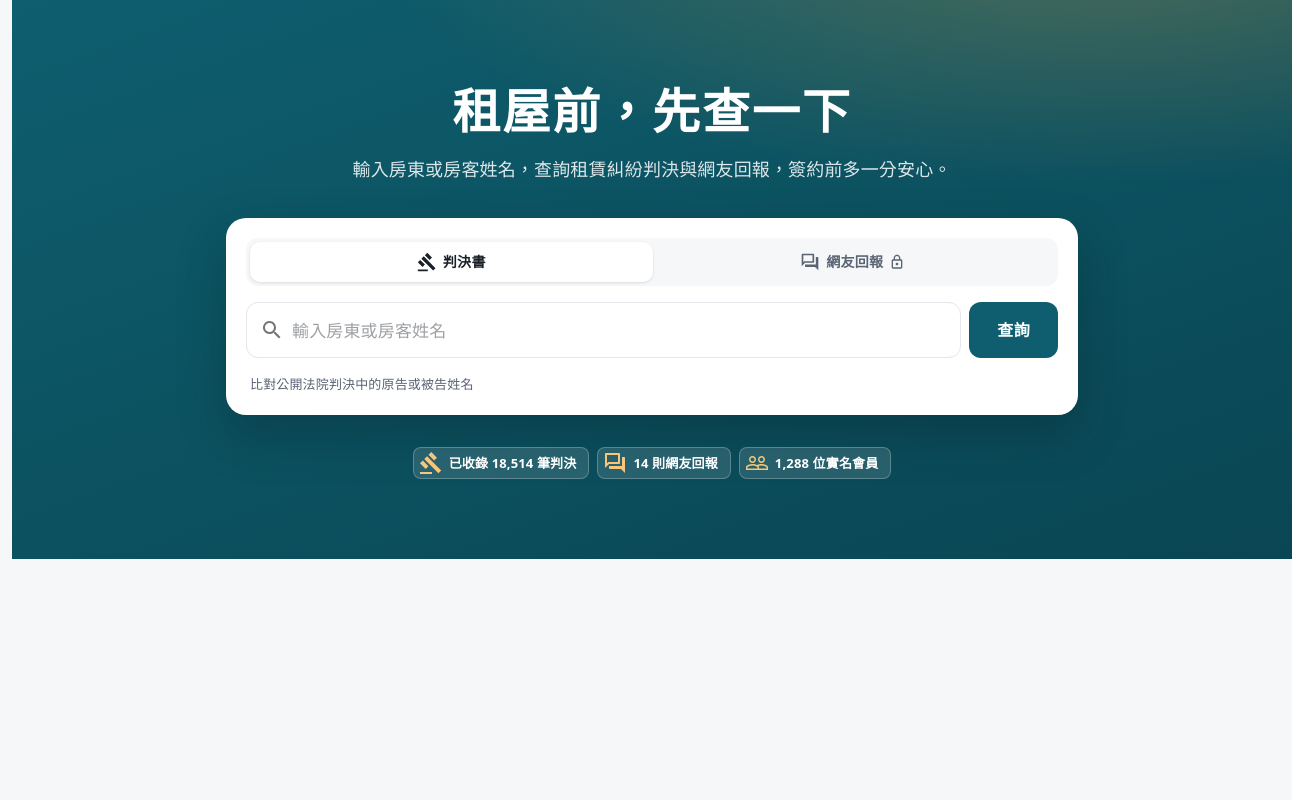
Test: SearchHero › navigates to judgment search results with the keyword
This screenshot has width=1292, height=800.
Type "王大明" into the field named "輸入姓名查詢判決" at (627, 330), box [292,302,961,359]
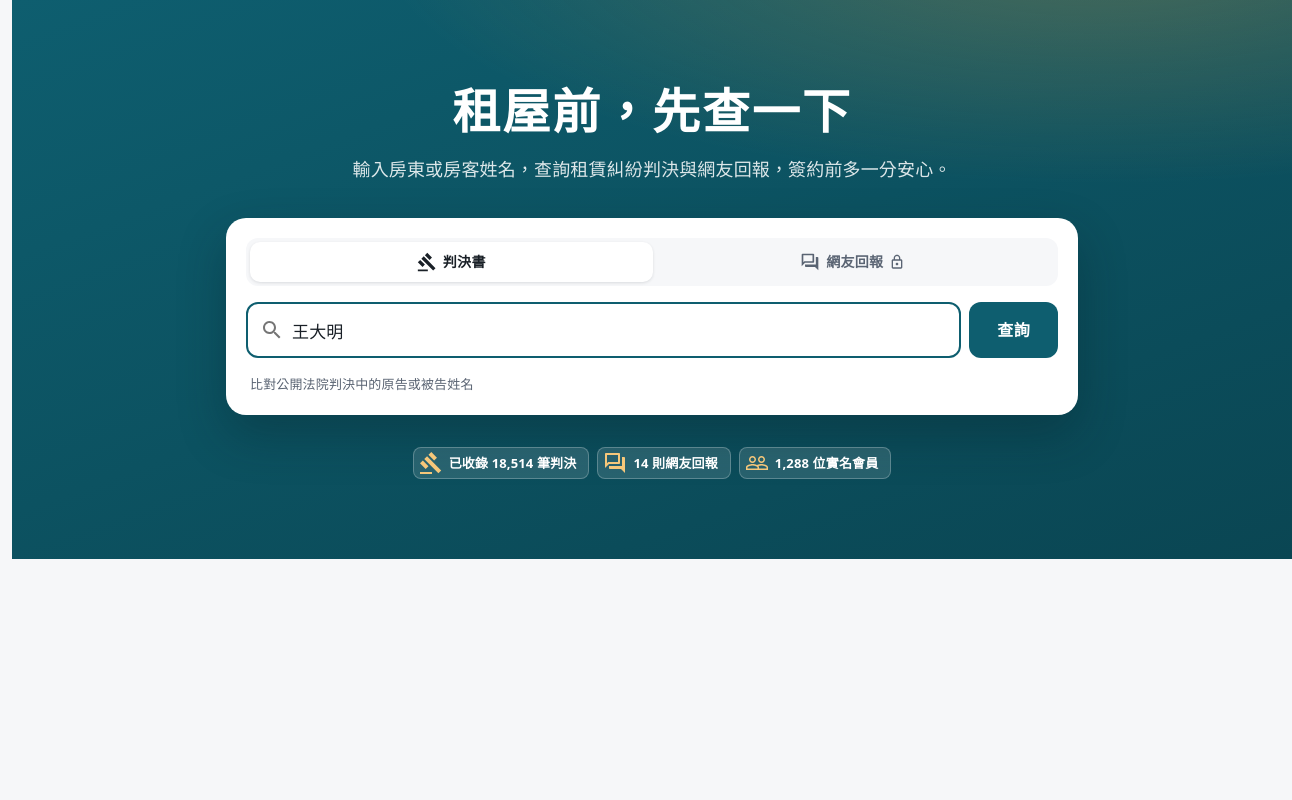
Click the button "查詢" at (1014, 330), box [969,302,1058,358]
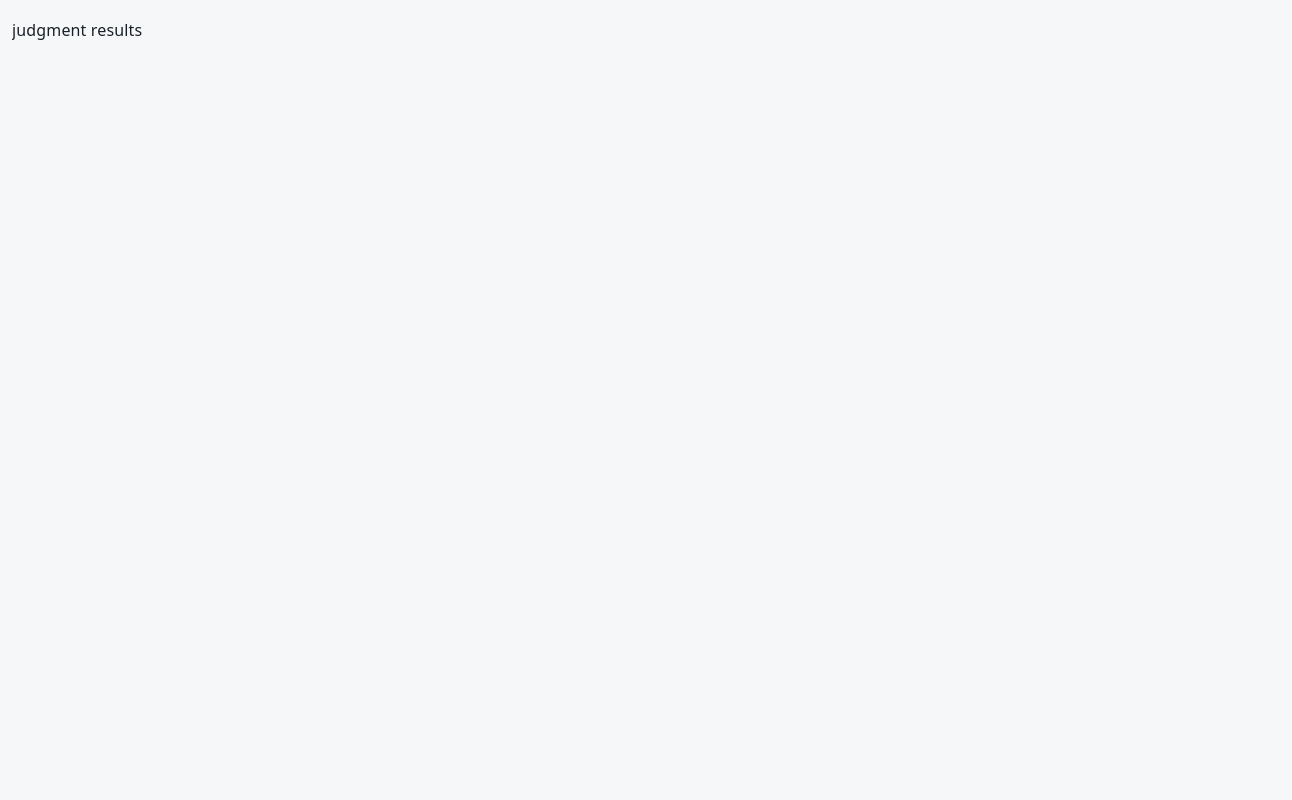
Expected: the text "judgment results" is shown, [12,19,142,41]
